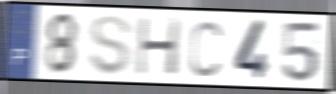4: (233, 17, 274, 84)
5: (280, 20, 322, 84)
8: (44, 11, 81, 76)
C: (188, 18, 224, 78)
H: (134, 15, 183, 77)
S: (87, 13, 133, 78)
